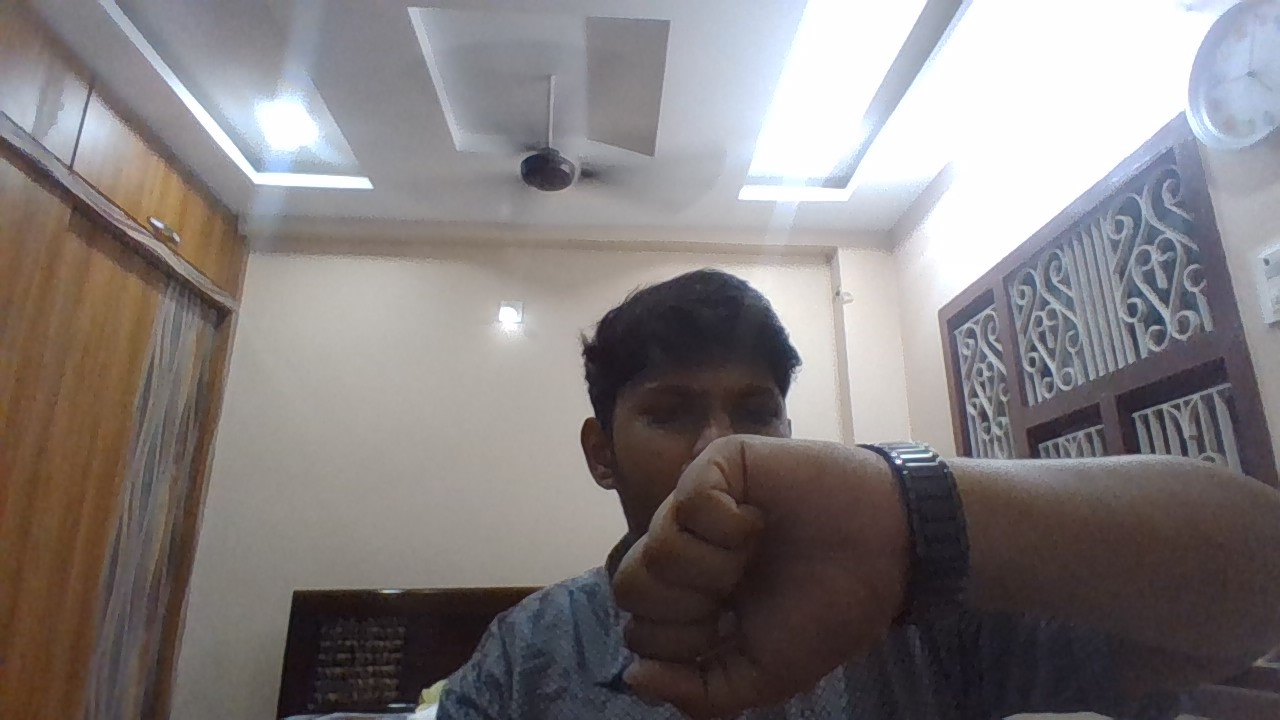person: (558, 232, 813, 533)
smartwatch: (831, 417, 1057, 647)
